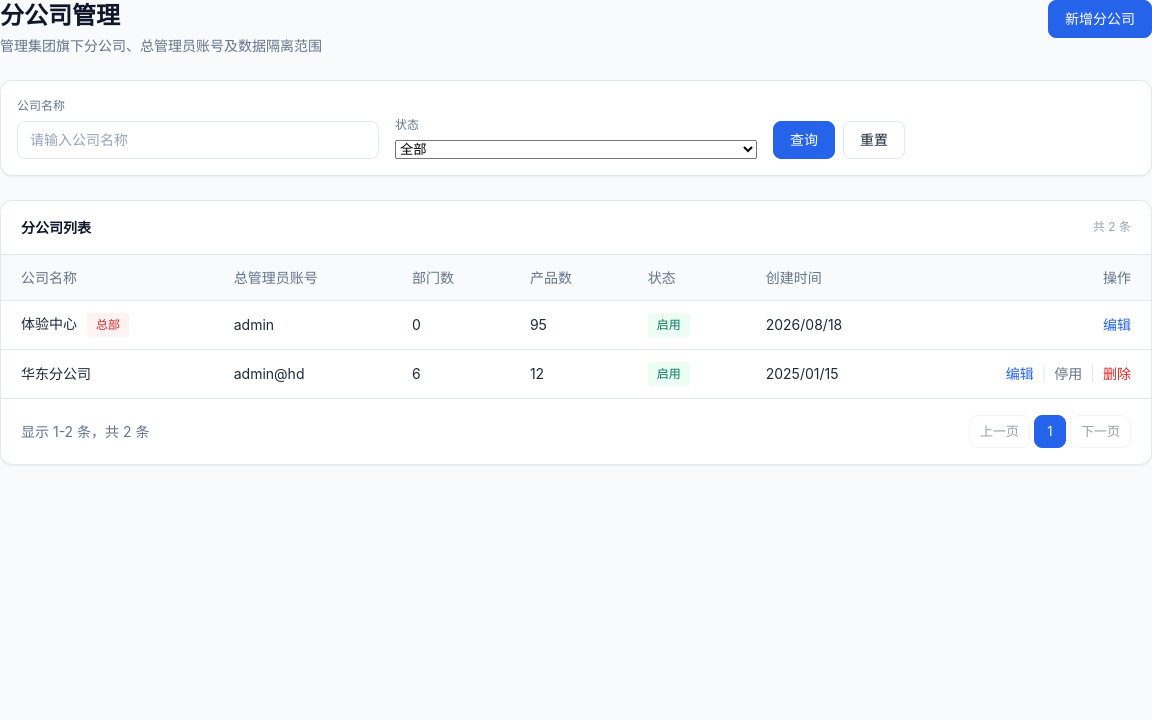
Scenario: AdminTenantsView › 删除需确认，成功刷新列表，关联限制说明留在弹层并保留记录
Step 1. Click the button with test id "tenant-delete-c-1001" → (1117, 374), box [1103,363,1131,384]
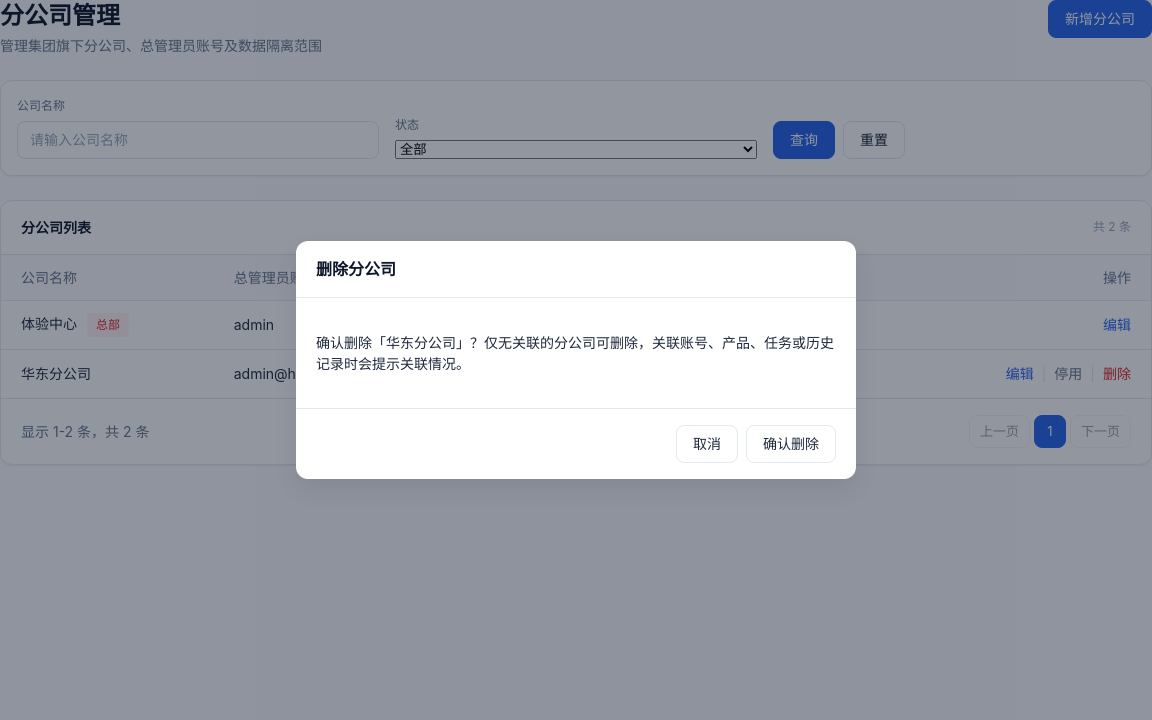
Step 2. Click the button with test id "tenant-delete-confirm" → (791, 444), box [746,425,836,463]
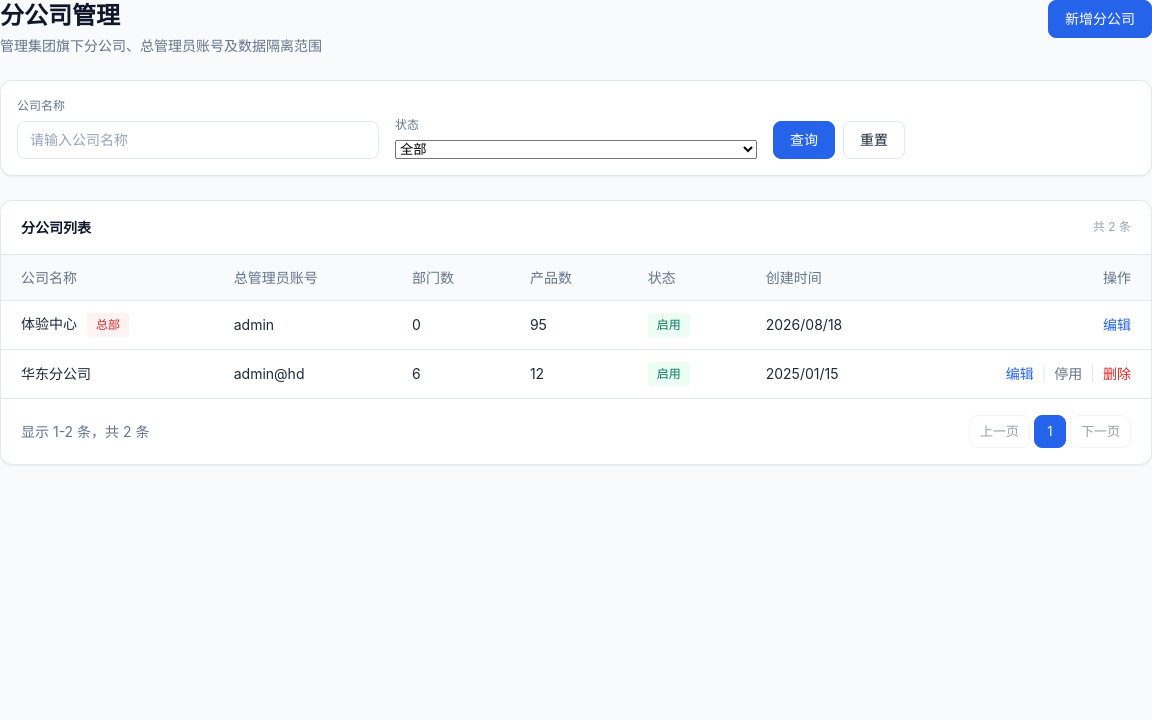
Step 3. Click the button with test id "tenant-delete-c-1001" → (1117, 374), box [1103,363,1131,384]
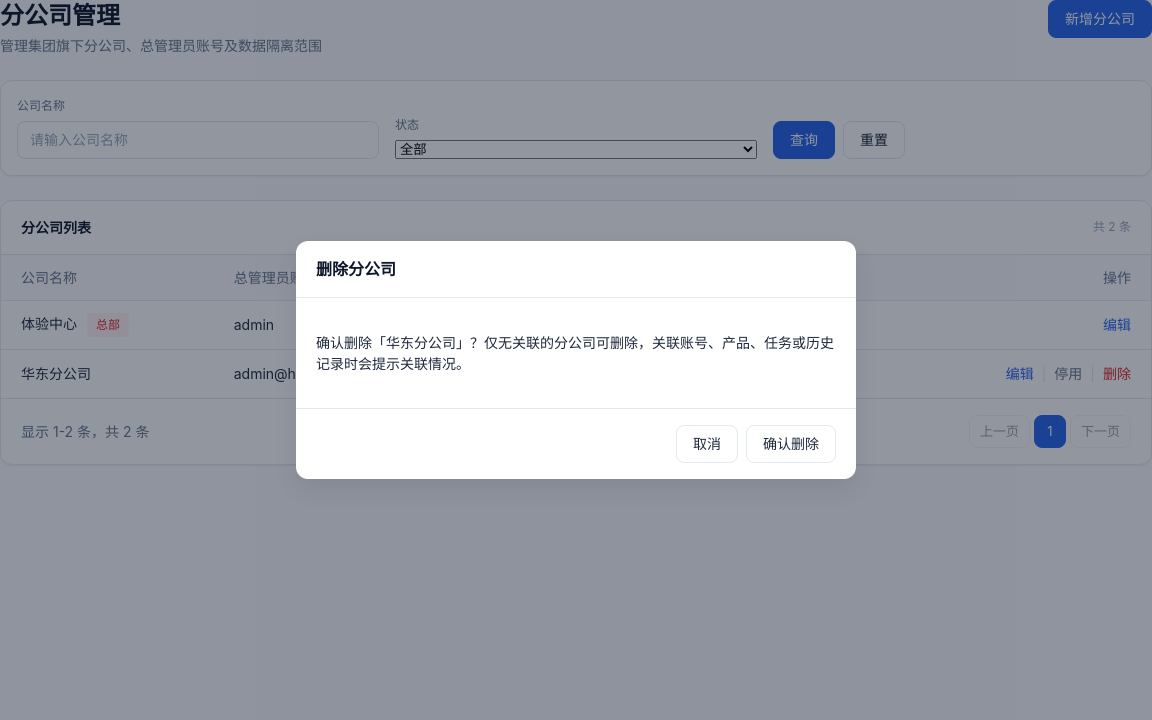
Step 4. Click the button with test id "tenant-delete-confirm" → (791, 444), box [746,425,836,463]
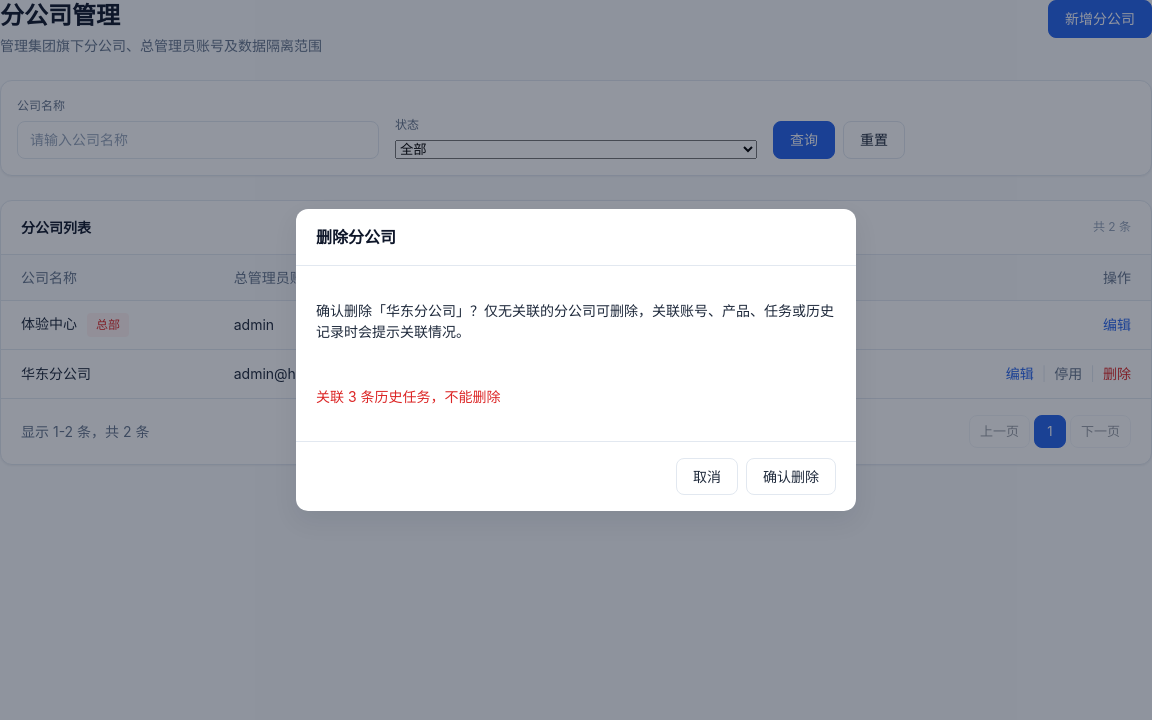
Expected: the row with test id "tenant-row-c-1001" is shown, [1,349,1151,398]
Result: the element with test id "tenant-delete-modal" shows "关联 3 条历史任务" at [316,388,500,405]
